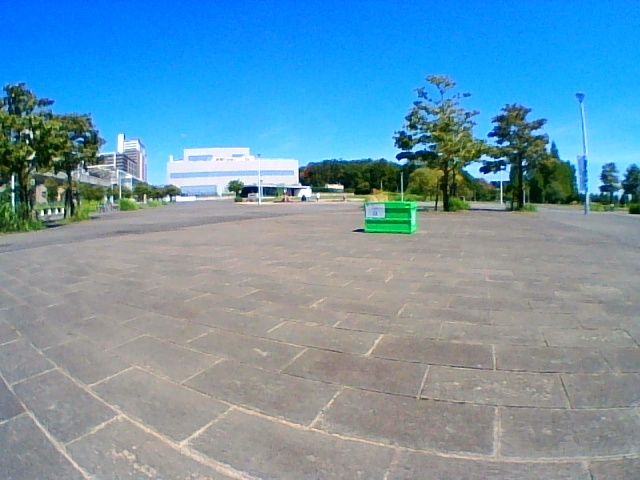green_box: (364, 202, 415, 233)
tag: (367, 205, 384, 218)
